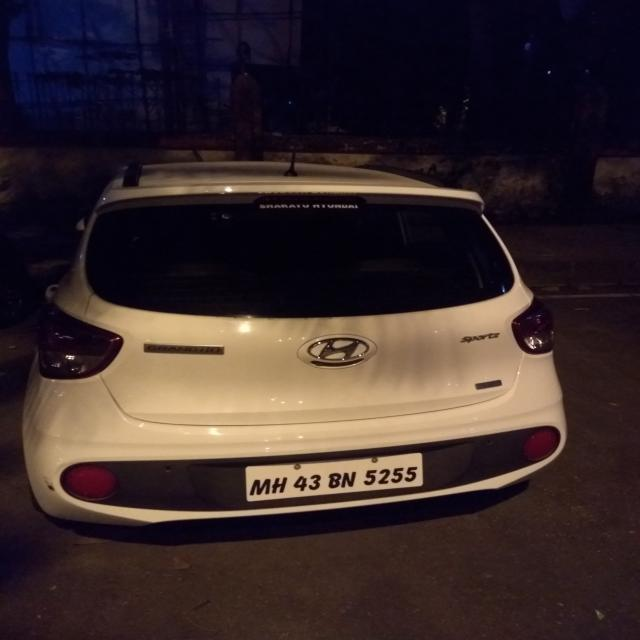Number-Plate: (247, 456, 422, 502)
